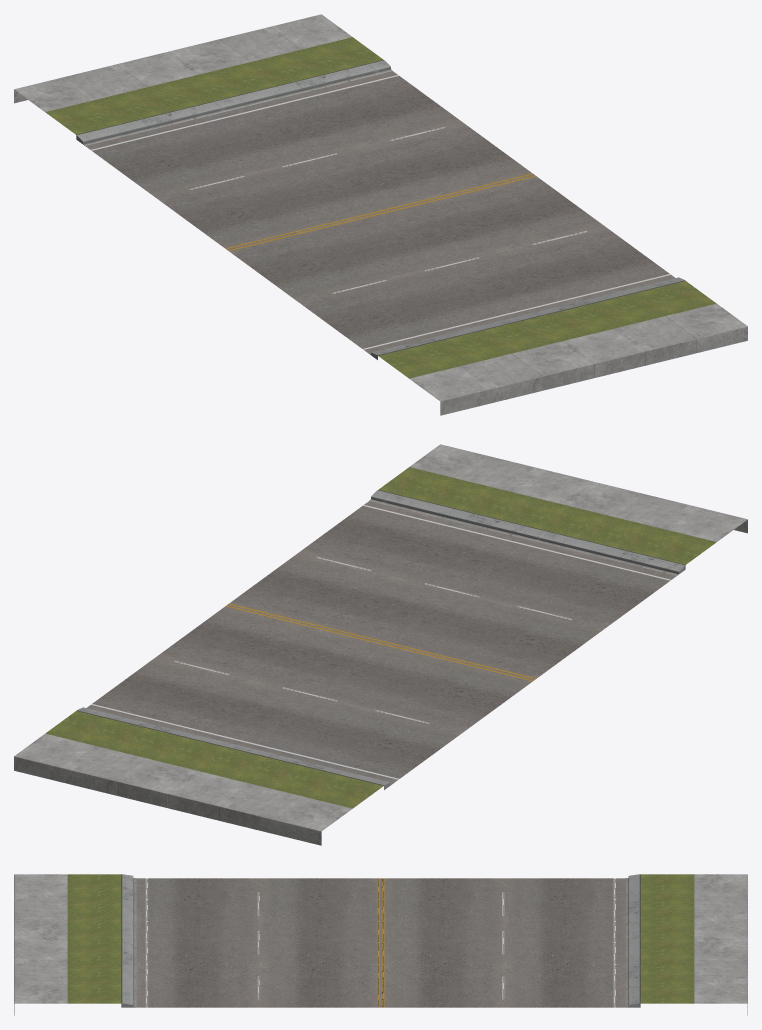
The model's file is Road_4L_VarA.fbx.
3 views of the same model, one above another, from view 1: azimuth 30°, elevation 25°; view 2: azimuth 150°, elevation 25°; view 3: azimuth 270°, elevation 25° (orthographic). The views are drawn at different scales.
Parts seen in each view (by area): view 1: Road_4L_VarA_LOD0; view 2: Road_4L_VarA_LOD0; view 3: Road_4L_VarA_LOD0.
Boxes of the visible parts, x1,y1,x2,y2 form: Road_4L_VarA_LOD0: (14,14,747,415); Road_4L_VarA_LOD0: (14,444,747,845); Road_4L_VarA_LOD0: (14,874,747,1015).
Size of what is drawn, in the model's own units: 1000 by 44.83 by 2401.
